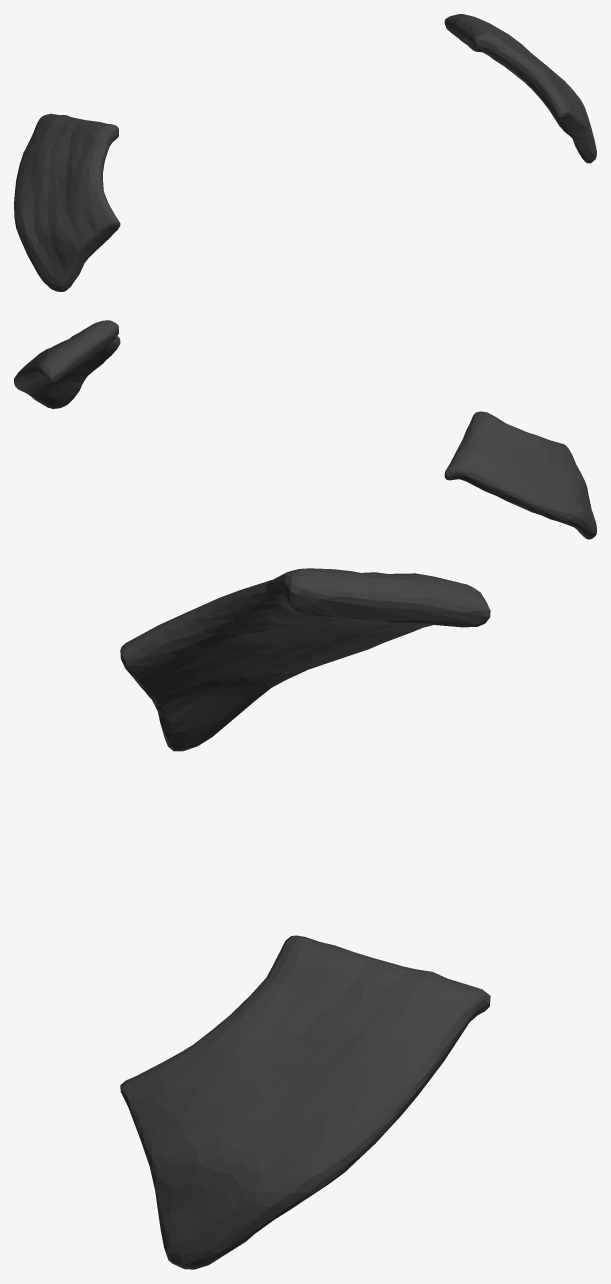
Rendered from m_buccinator_molar_part.glb.
3 renders of one model, top to bottom at view 1: azimuth 30°, elevation 25°; view 2: azimuth 150°, elevation 25°; view 3: azimuth 270°, elevation 25°, orthographic. The views are drawn at different scales.
Parts seen in each view (by area): view 1: m_buccinator_molar_part; view 2: m_buccinator_molar_part; view 3: m_buccinator_molar_part.
Boxes of the visible parts, x1,y1,x2,y2 form: m_buccinator_molar_part: [14, 14, 596, 291]; m_buccinator_molar_part: [14, 320, 596, 539]; m_buccinator_molar_part: [120, 568, 490, 1269].
Size of the model in its own units: 0.00175 by 0.000378 by 0.000503.
1 material, 1 textured.
